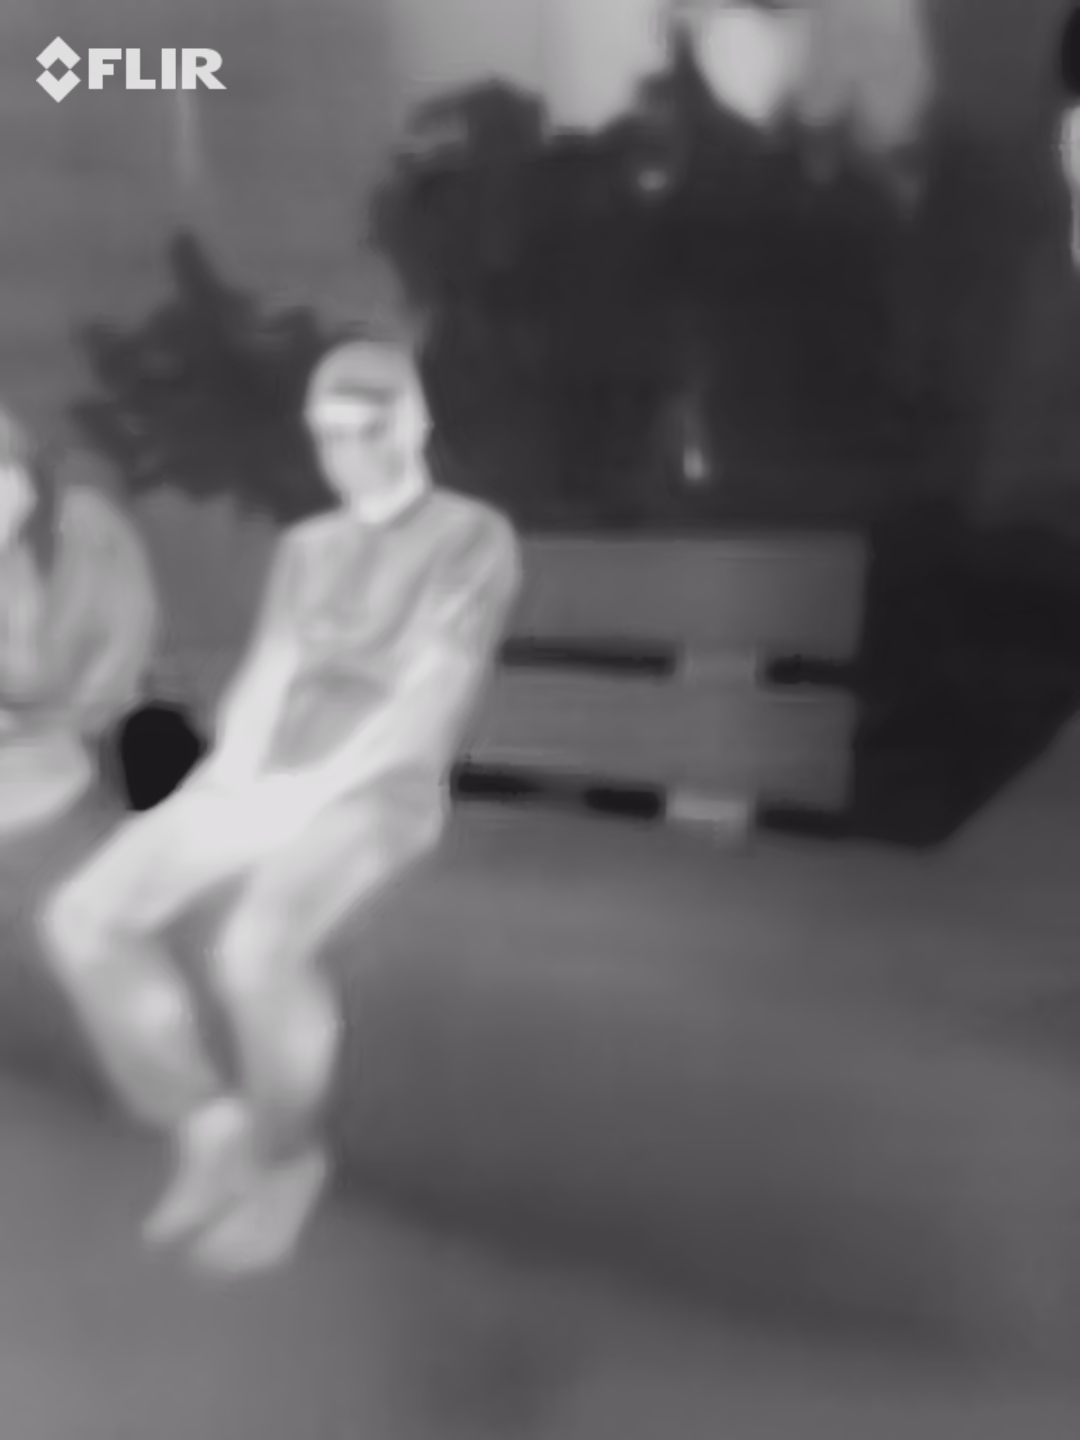head: (295, 342, 438, 507)
